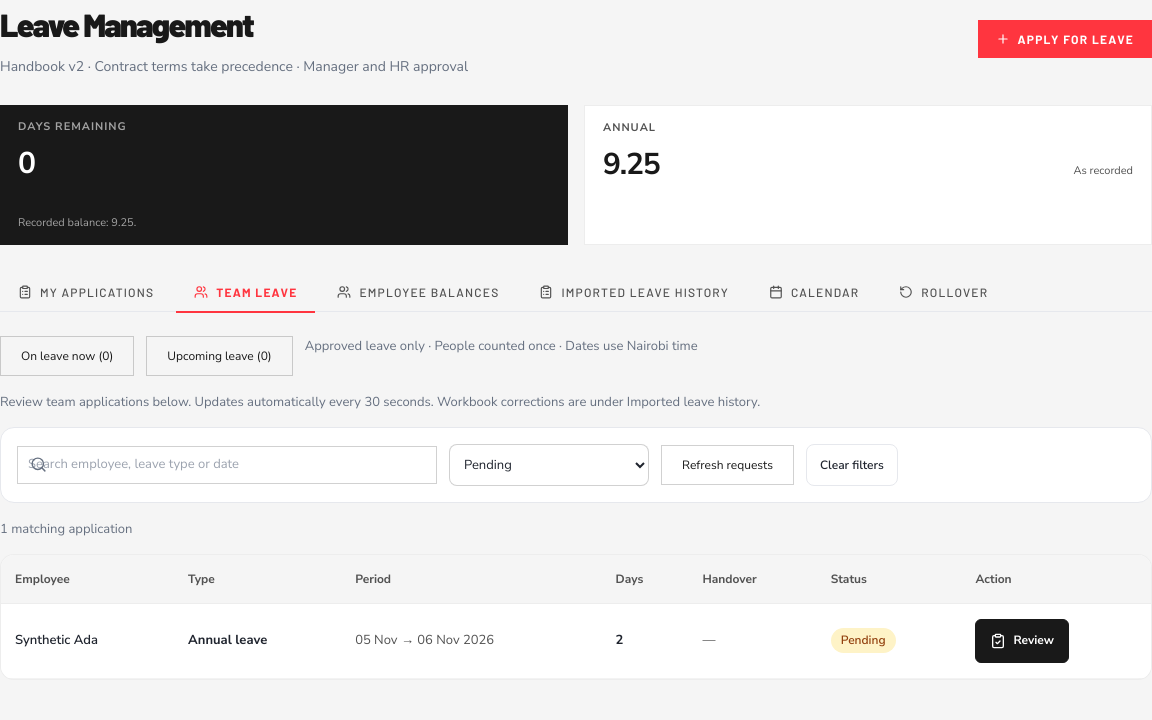
Test: HR can explicitly override policy blockers even when already assigned HR approval
Later steps or results of the test are not shown.
Click the button with test id "leave-tab-team" at (246, 293), box [176,273,316,313]
Click the button "Review" at (1022, 641), box [976,619,1069,663]
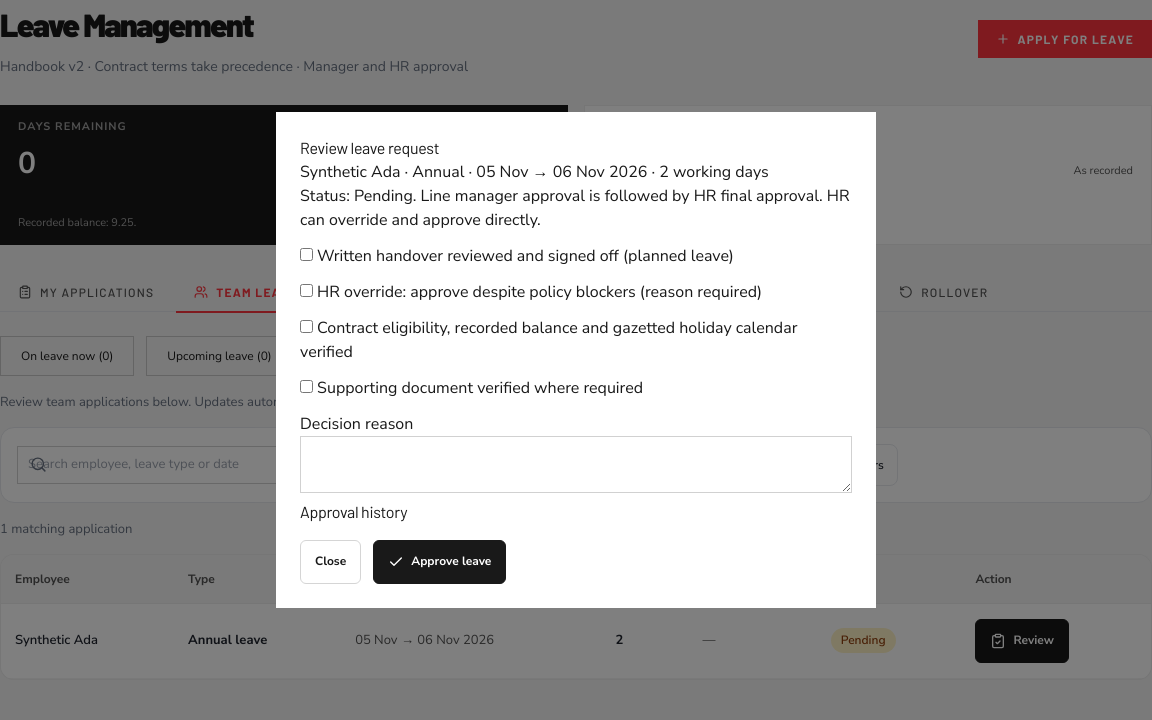
Now the checkbox named "HR override policy checks" is not checked
Click the checkbox named "HR override policy checks" at (306, 290), box [300,284,313,297]
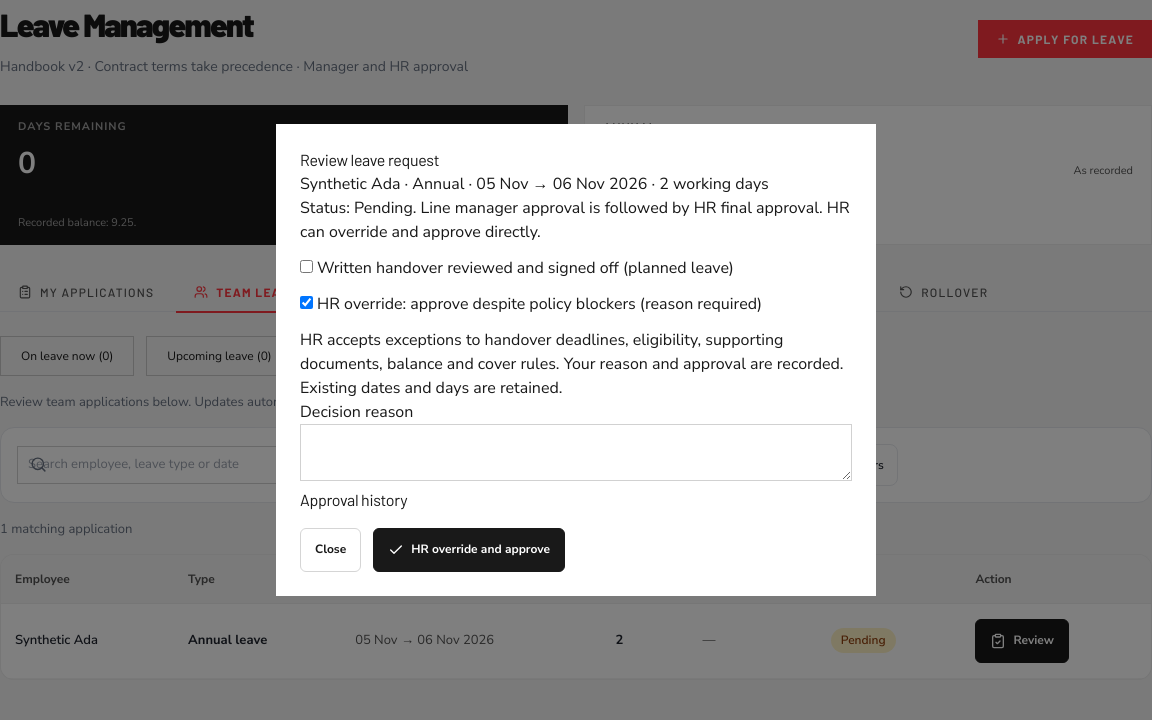
Now the checkbox named "HR override policy checks" is checked, box [300,296,313,309]
Now the button "HR override and approve" is shown, box [373,528,565,572]
Now the text "HR accepts exceptions" is shown, box [300,329,844,399]
